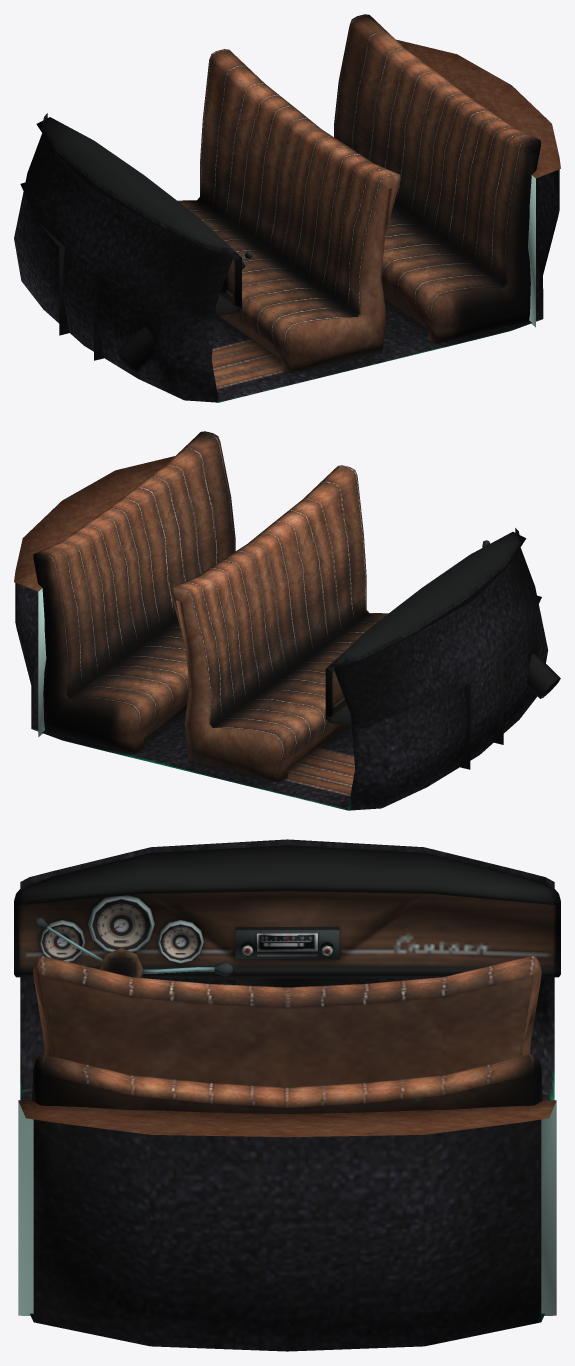
Rendered from interior.fbx.
3 views of the same model, one above another, from view 1: azimuth 30°, elevation 25°; view 2: azimuth 150°, elevation 25°; view 3: azimuth 270°, elevation 25° (orthographic). The views are drawn at different scales.
Parts seen in each view (by area): view 1: interior; view 2: interior; view 3: interior.
Boxes of the visible parts, box(x1,y1,x2,y2) form: interior: box(14, 14, 560, 402); interior: box(14, 431, 560, 810); interior: box(14, 839, 560, 1351).
Size of the model in its own units: 8808 by 3376 by 6417.
